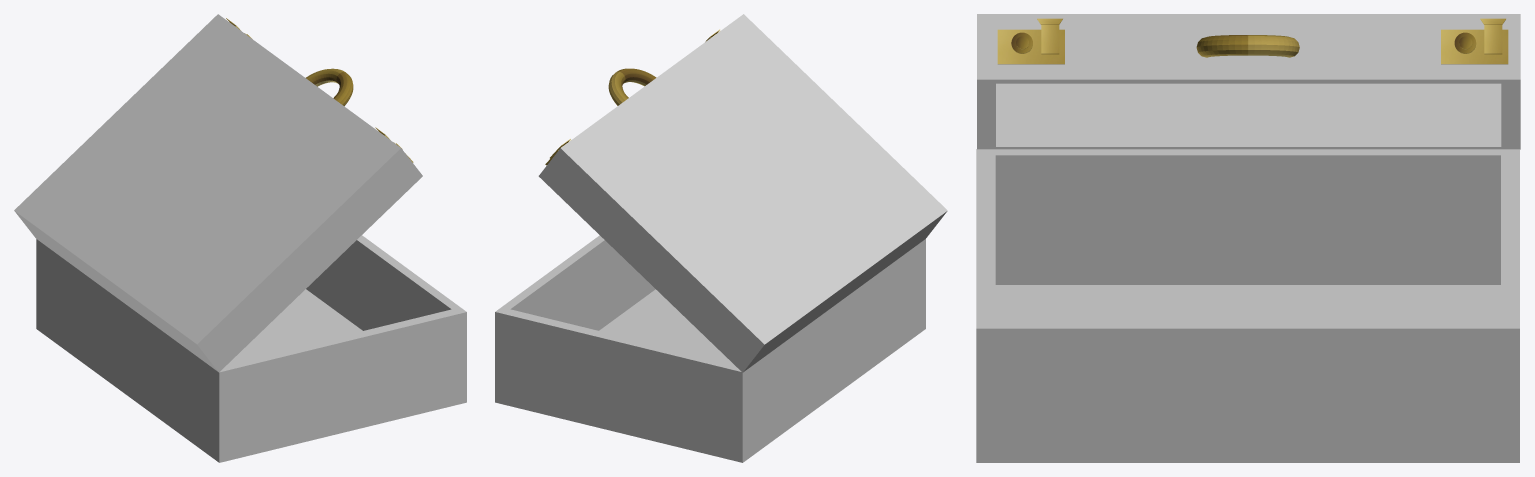
Rendered from maleta.fbx.
3 renders of one model, left to right at view 1: azimuth 30°, elevation 25°; view 2: azimuth 150°, elevation 25°; view 3: azimuth 270°, elevation 25°, orthographic. The views are drawn at different scales.
Visible parts, largest first — view 1: Cube.001, Cube, Torus; view 2: Cube.001, Cube, Torus; view 3: Cube, Cube.001, Torus, Cube.007, Cube.010, Cube.003, Cube.009.
Boxes of the visible parts, x1,y1,x2,y2 form: Cube.001: (14,14,422,372); Cube: (36,235,466,462); Torus: (306,68,353,106); Cube.001: (538,14,947,372); Cube: (495,235,925,462); Torus: (608,68,656,105); Cube: (976,149,1519,462); Cube.001: (977,14,1520,149); Torus: (1196,35,1299,57); Cube.007: (997,29,1064,64); Cube.010: (1441,29,1508,64); Cube.003: (1041,25,1059,54); Cube.009: (1484,25,1502,54).
Bounding box in the file's own units: 271 × 261 × 319.
